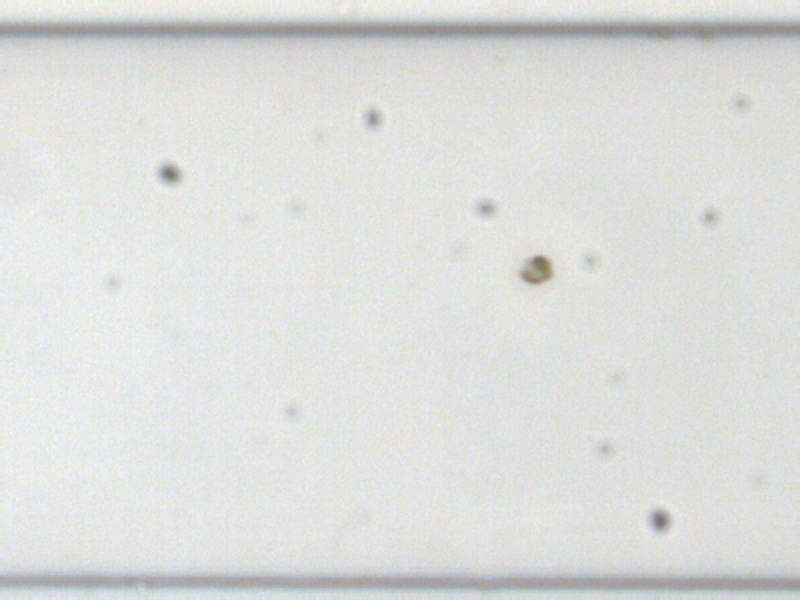Dunaliella salina: (514, 253, 554, 286)
